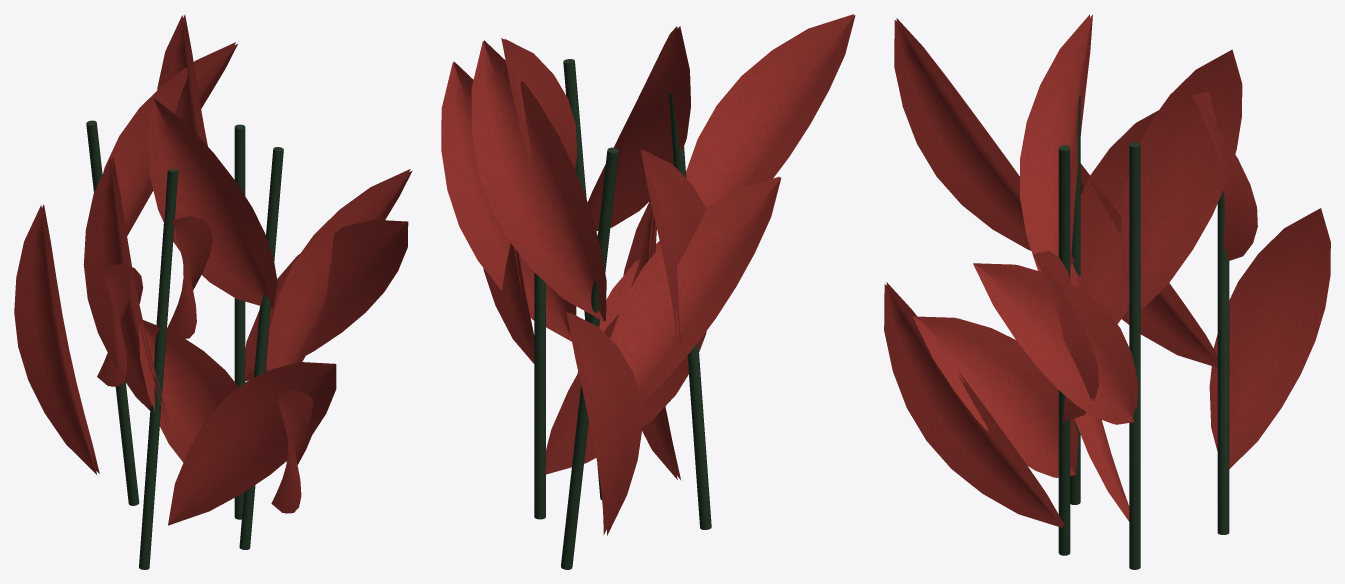
Rendered from red_rotala.glb.
3 views of the same model, side by side, from view 1: azimuth 30°, elevation 25°; view 2: azimuth 150°, elevation 25°; view 3: azimuth 270°, elevation 25° (orthographic). The views are drawn at different scales.
Visible parts, largest first — view 1: moving_stem_1, moving_stem_3, moving_stem_2, moving_stem_0; view 2: moving_stem_2, moving_stem_1, moving_stem_3, moving_stem_0; view 3: moving_stem_0, moving_stem_1, moving_stem_3, moving_stem_2.
Boxes of the visible parts, left/top/right/bottom form: moving_stem_1: left=83, top=156, right=336, bottom=569; moving_stem_3: left=147, top=98, right=412, bottom=549; moving_stem_2: left=14, top=42, right=237, bottom=505; moving_stem_0: left=138, top=14, right=408, bottom=519; moving_stem_2: left=471, top=40, right=781, bottom=569; moving_stem_1: left=623, top=14, right=855, bottom=529; moving_stem_3: left=441, top=26, right=690, bottom=499; moving_stem_0: left=483, top=38, right=706, bottom=519; moving_stem_0: left=973, top=49, right=1242, bottom=569; moving_stem_1: left=894, top=18, right=1158, bottom=504; moving_stem_3: left=884, top=14, right=1098, bottom=555; moving_stem_2: left=1080, top=91, right=1330, bottom=534.
Bounding box in the file's own units: 0.8568 × 1.27 × 1.01.
Materials: 1 (1 with a texture image).
